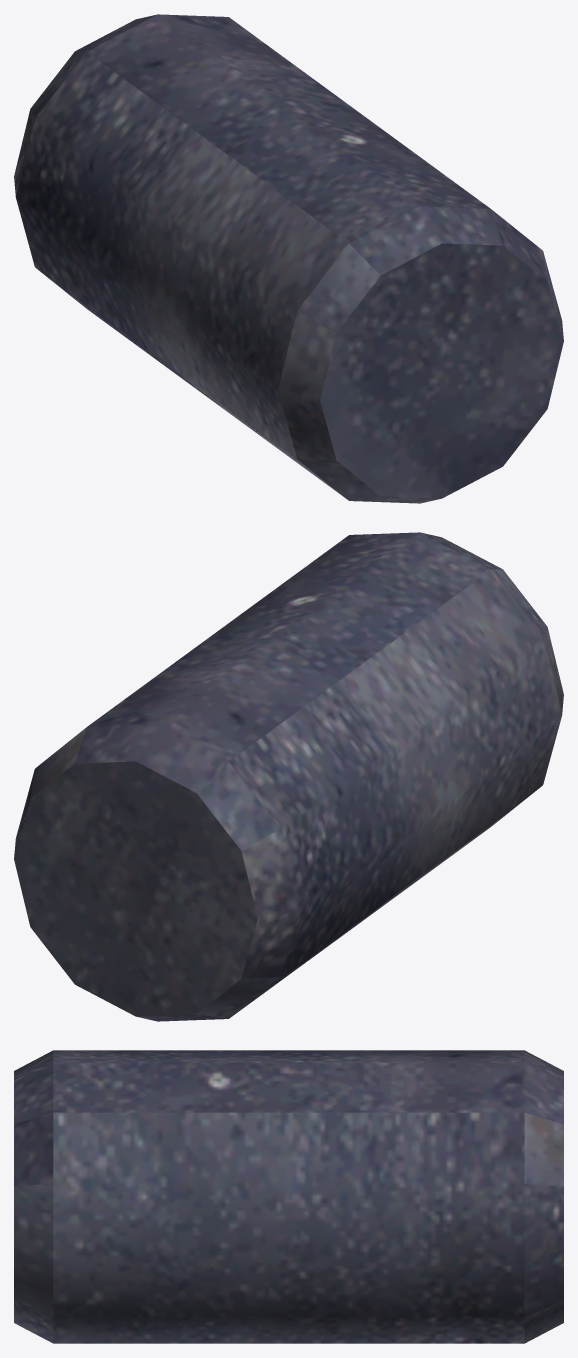
File: weaponpack_01.obj
3 views of the same model, one above another, from view 1: azimuth 30°, elevation 25°; view 2: azimuth 150°, elevation 25°; view 3: azimuth 270°, elevation 25° (orthographic). The views are drawn at different scales.
Parts seen in each view (by area): view 1: weaponpack_01; view 2: weaponpack_01; view 3: weaponpack_01.
Boxes of the visible parts, x1,y1,x2,y2 form: weaponpack_01: (14,14,563,503); weaponpack_01: (14,532,563,1021); weaponpack_01: (14,1050,563,1343).
Bounding box in the file's own units: 101 × 101 × 189.
